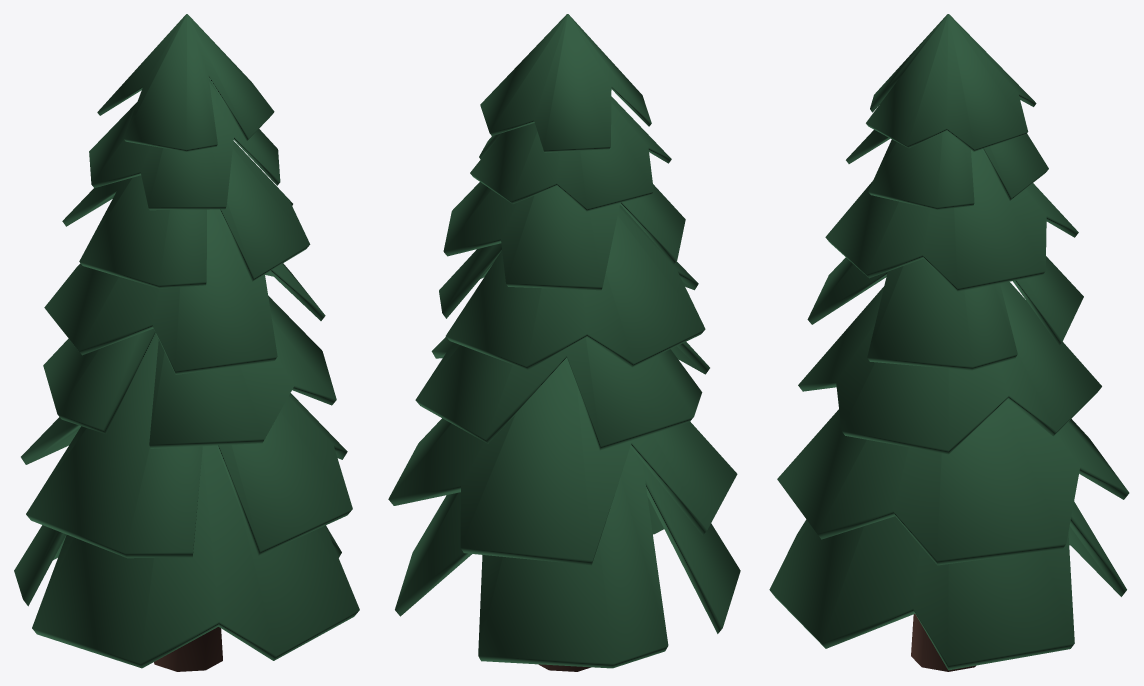
3 views of the same model, side by side, from view 1: azimuth 30°, elevation 25°; view 2: azimuth 150°, elevation 25°; view 3: azimuth 270°, elevation 25° (orthographic).
Visible parts, largest first — view 1: Circle, Circle.001, Circle.002, Circle.003, Circle.004, Circle.006, Circle.005, Cylinder; view 2: Circle, Circle.001, Circle.003, Circle.002, Circle.004, Circle.006, Circle.005; view 3: Circle.001, Circle, Circle.002, Circle.004, Circle.003, Circle.006, Circle.005, Cylinder.
Part boxes in pixels (<box>): Circle: <box>14,445,359,668</box>; Circle.001: <box>21,334,352,558</box>; Circle.002: <box>43,296,336,448</box>; Circle.003: <box>44,209,325,374</box>; Circle.004: <box>62,141,310,288</box>; Circle.006: <box>97,14,274,151</box>; Circle.005: <box>89,79,280,210</box>; Cylinder: <box>154,627,222,671</box>; Circle: <box>395,447,740,668</box>; Circle.001: <box>388,359,737,565</box>; Circle.003: <box>439,204,705,369</box>; Circle.002: <box>415,337,709,450</box>; Circle.004: <box>443,182,685,290</box>; Circle.006: <box>480,14,651,152</box>; Circle.005: <box>470,96,671,211</box>; Circle.001: <box>777,399,1129,565</box>; Circle: <box>769,501,1126,670</box>; Circle.002: <box>798,281,1101,454</box>; Circle.004: <box>825,149,1078,291</box>; Circle.003: <box>807,256,1083,370</box>; Circle.006: <box>866,14,1036,151</box>; Circle.005: <box>846,130,1048,210</box>; Cylinder: <box>911,614,975,671</box>.
Size of what is drawn, in the model's own units: 2 by 3.96 by 2.01.
